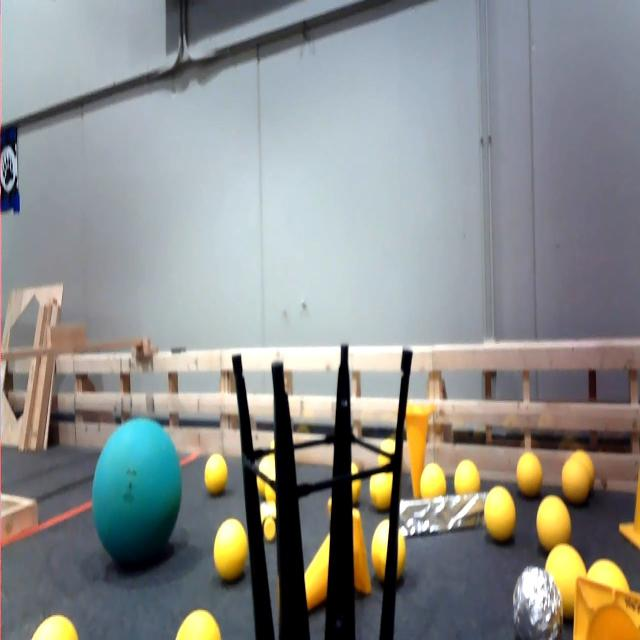fuel: (212, 511, 256, 588), (544, 541, 589, 615), (481, 484, 527, 545), (586, 546, 635, 594), (197, 448, 235, 508), (374, 518, 407, 583), (536, 491, 571, 548), (170, 607, 230, 640), (511, 446, 551, 495), (22, 608, 82, 640), (254, 442, 282, 508), (558, 459, 594, 509), (452, 452, 485, 497), (416, 458, 450, 501), (370, 461, 398, 511), (568, 445, 599, 476), (351, 460, 368, 504), (378, 436, 399, 464)
